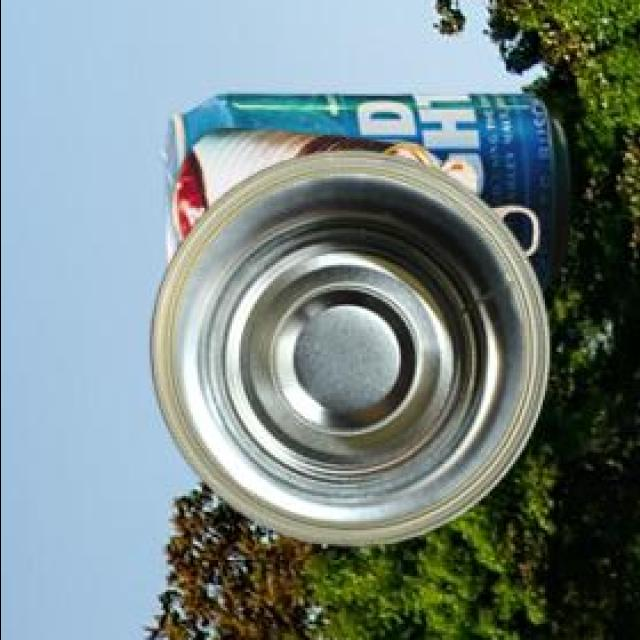logam: (147, 154, 545, 547), (157, 97, 566, 298), (168, 131, 534, 259)
